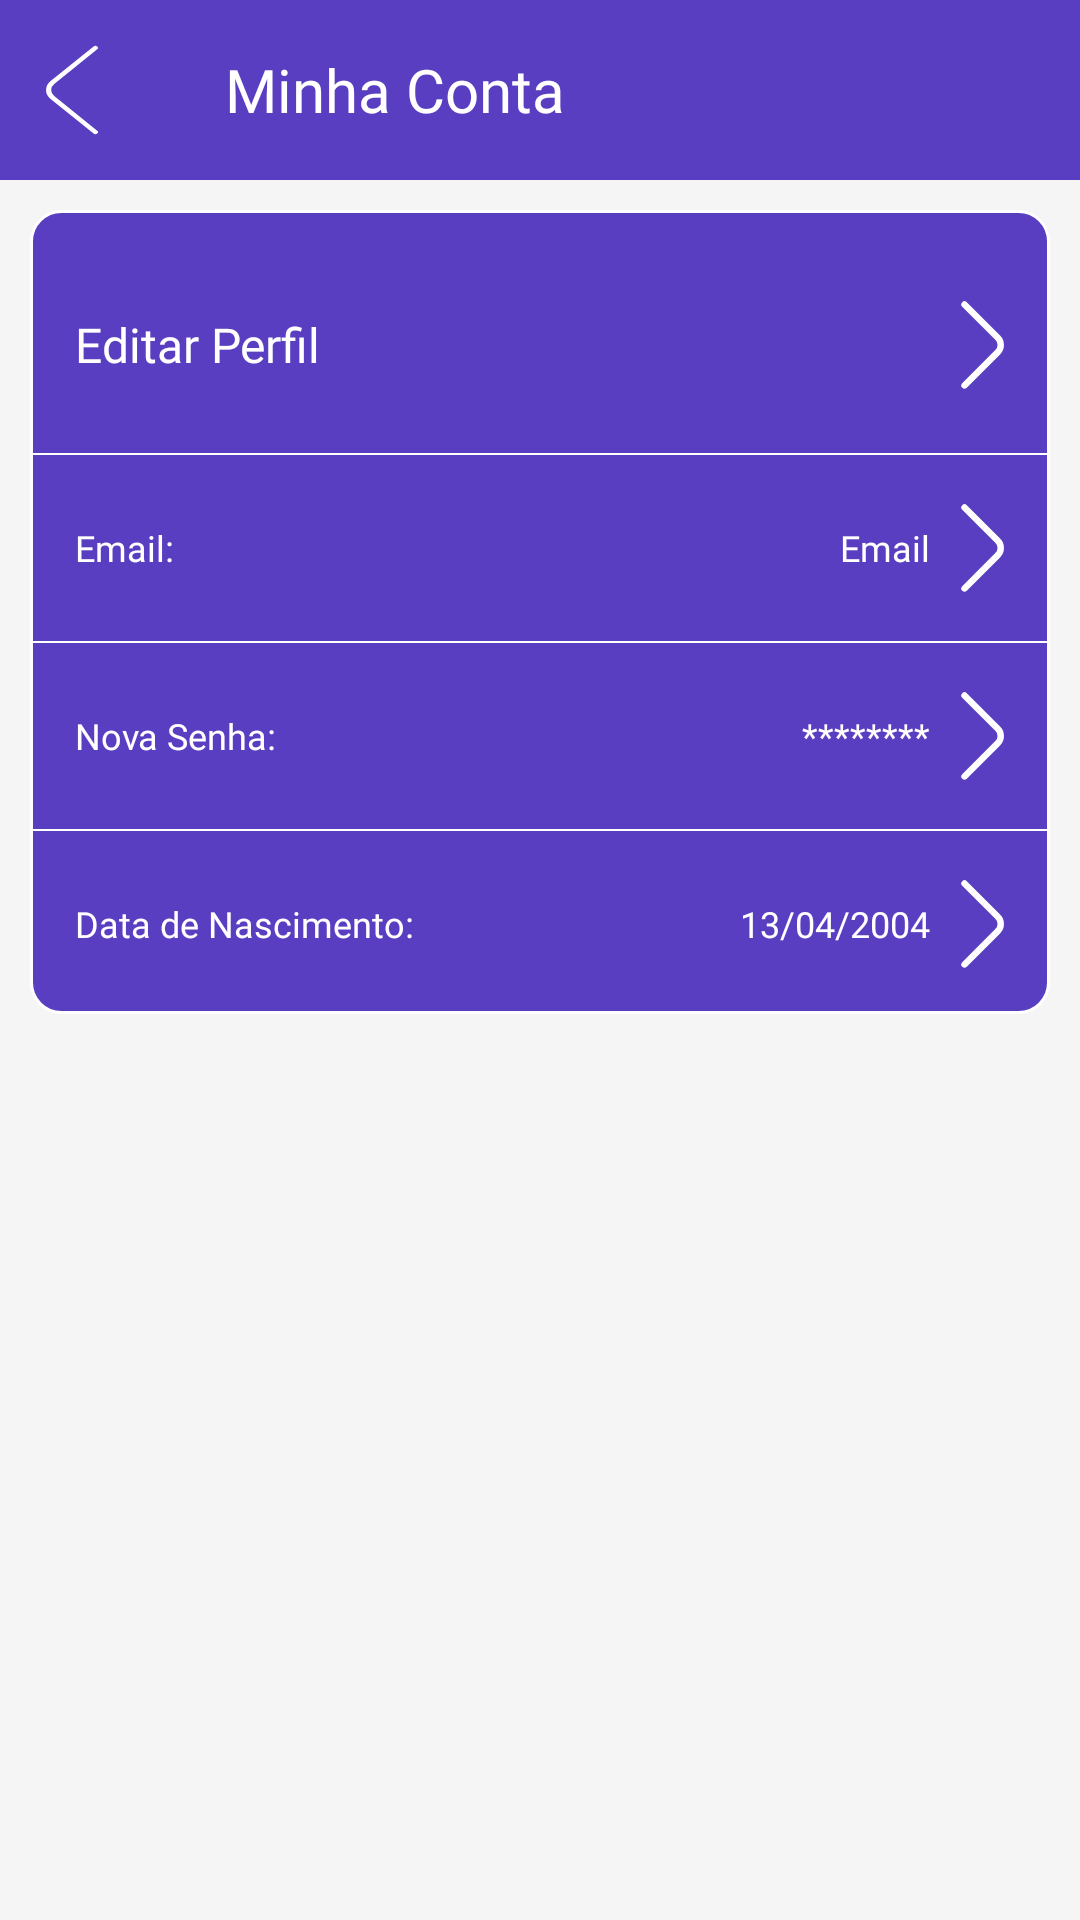

Icons on this 1080 x 1920 Android screen, each with the point to tap as point (x, y):
Botão voltar tela anterior: point (72, 90)
seta: point (982, 548), point (982, 736)
Seta indicando avançar: point (982, 345), point (982, 924)
